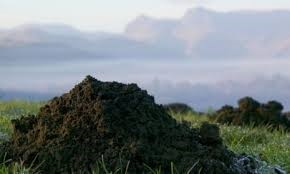dirt: (10, 75, 234, 170), (236, 96, 287, 130)
grass: (222, 124, 288, 165), (1, 100, 46, 117)
